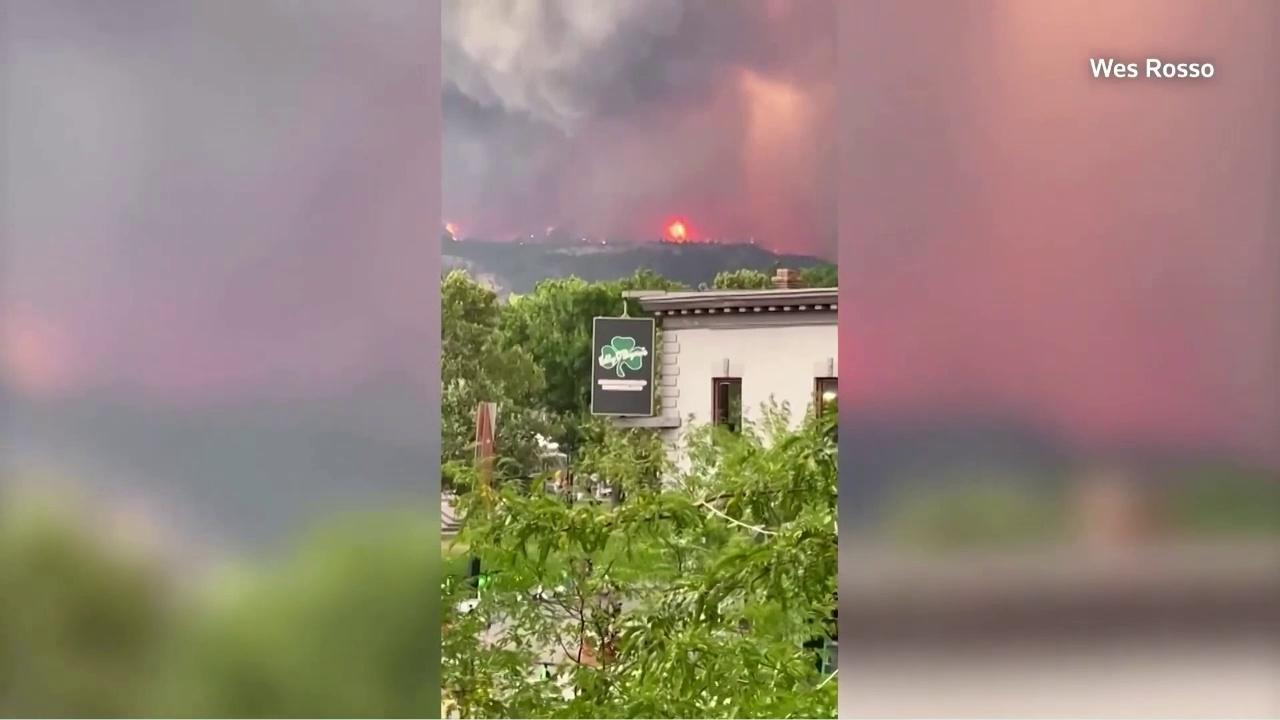fire: (661, 213, 699, 243), (445, 223, 458, 242), (530, 233, 534, 239), (602, 240, 606, 245)
smoke: (442, 0, 839, 270)
